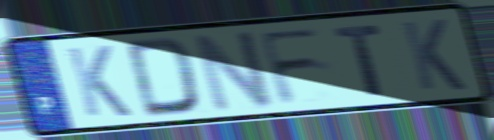D: (123, 34, 203, 120)
F: (255, 24, 326, 107)
K: (397, 17, 470, 94), (63, 43, 135, 120)
N: (191, 28, 277, 116)
T: (331, 22, 388, 99)
